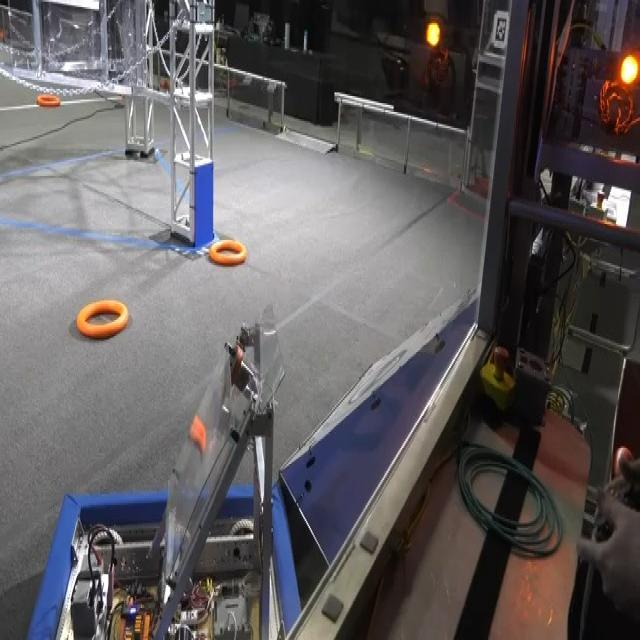note: (75, 295, 128, 342), (209, 237, 249, 270), (36, 92, 62, 110)
robot: (21, 302, 305, 640)
